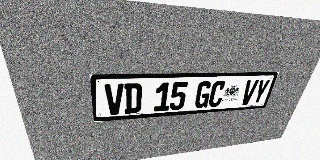1: (154, 82, 172, 112)
5: (169, 82, 188, 110)
C: (207, 81, 227, 107)
D: (124, 83, 142, 114)
G: (194, 81, 213, 109)
V: (104, 84, 124, 115), (239, 80, 259, 105)
Y: (251, 79, 271, 104)
